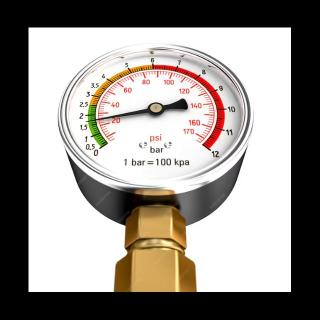gauge: (37, 29, 259, 199), (194, 134, 222, 162), (93, 136, 113, 155), (148, 102, 164, 116), (83, 120, 91, 124)
